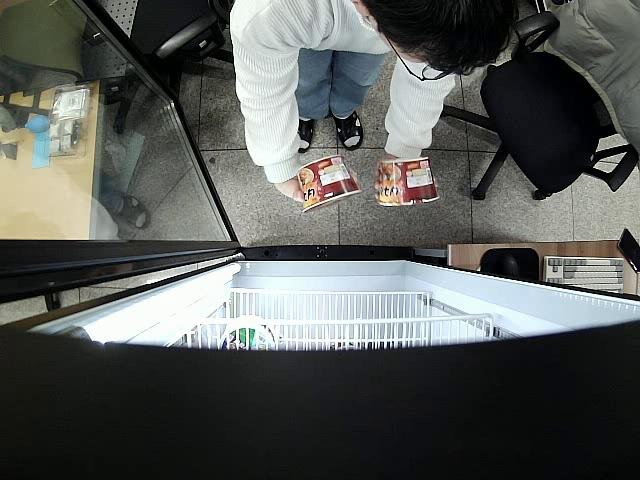05_nuguri_L: (295, 151, 361, 213), (377, 155, 439, 207)
